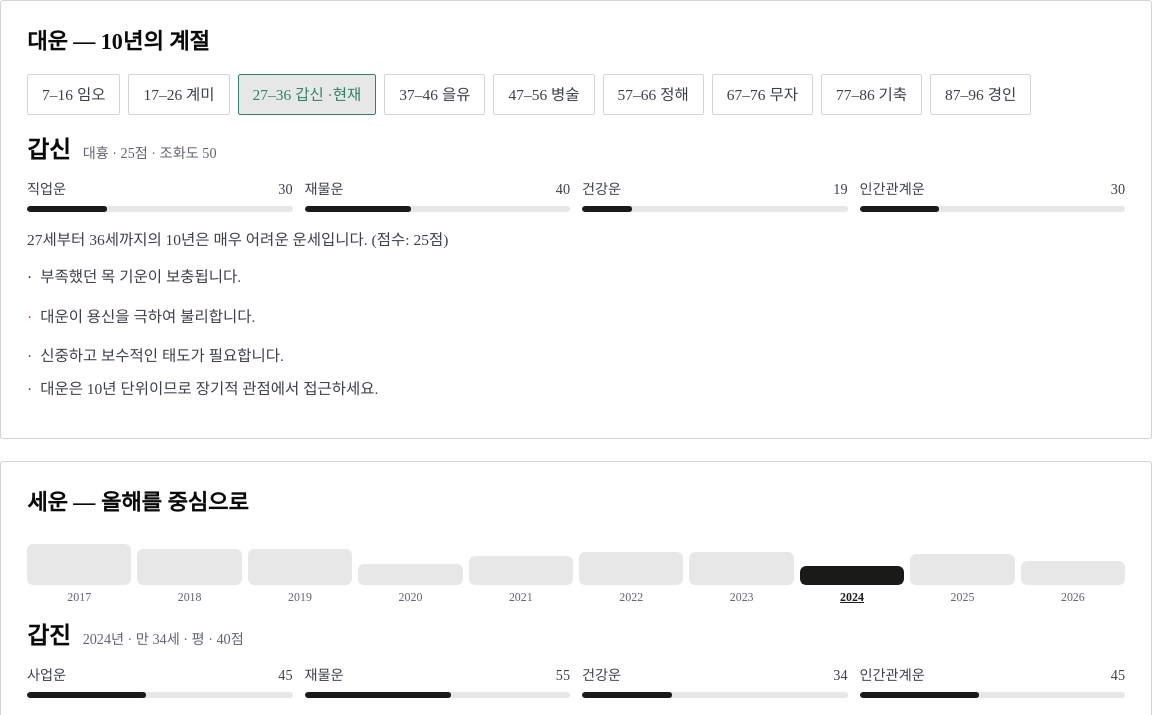
Test case: FlowTab — 대운→세운 캐스케이드 › 현재 대운을 다시 고르면 세운 헤더가 '올해를 중심으로'로 돌아온다
Click the button "7–16 임오" at (74, 95), box top-left (27, 74), bottom-right (120, 115)
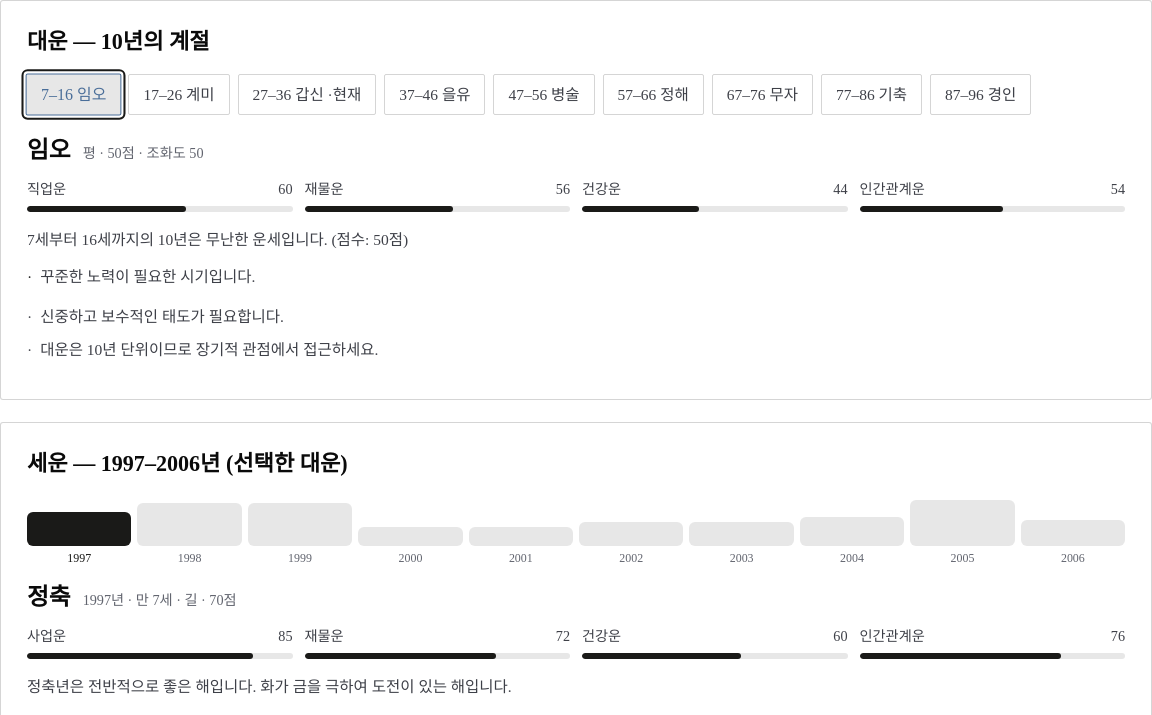
Click the button "27–36 갑신 ·현재" at (307, 95), box top-left (238, 74), bottom-right (376, 115)
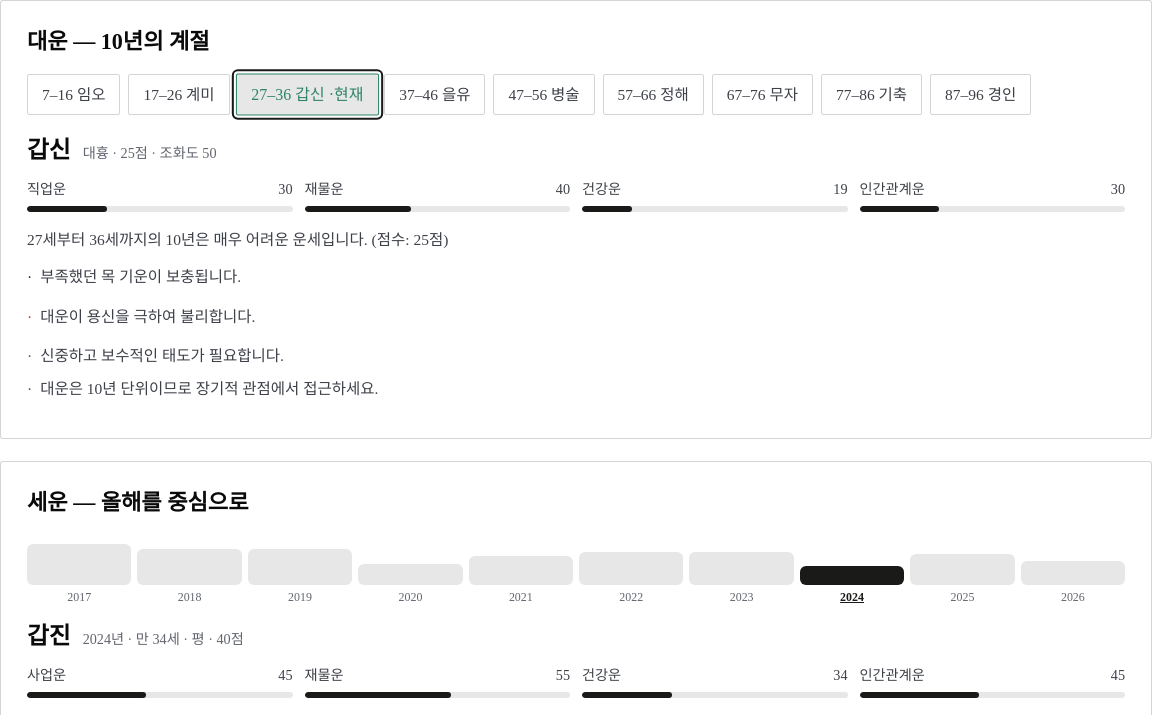
Result: the heading "세운 — 올해를 중심으로" is shown at top-left (27, 486), bottom-right (248, 519)
